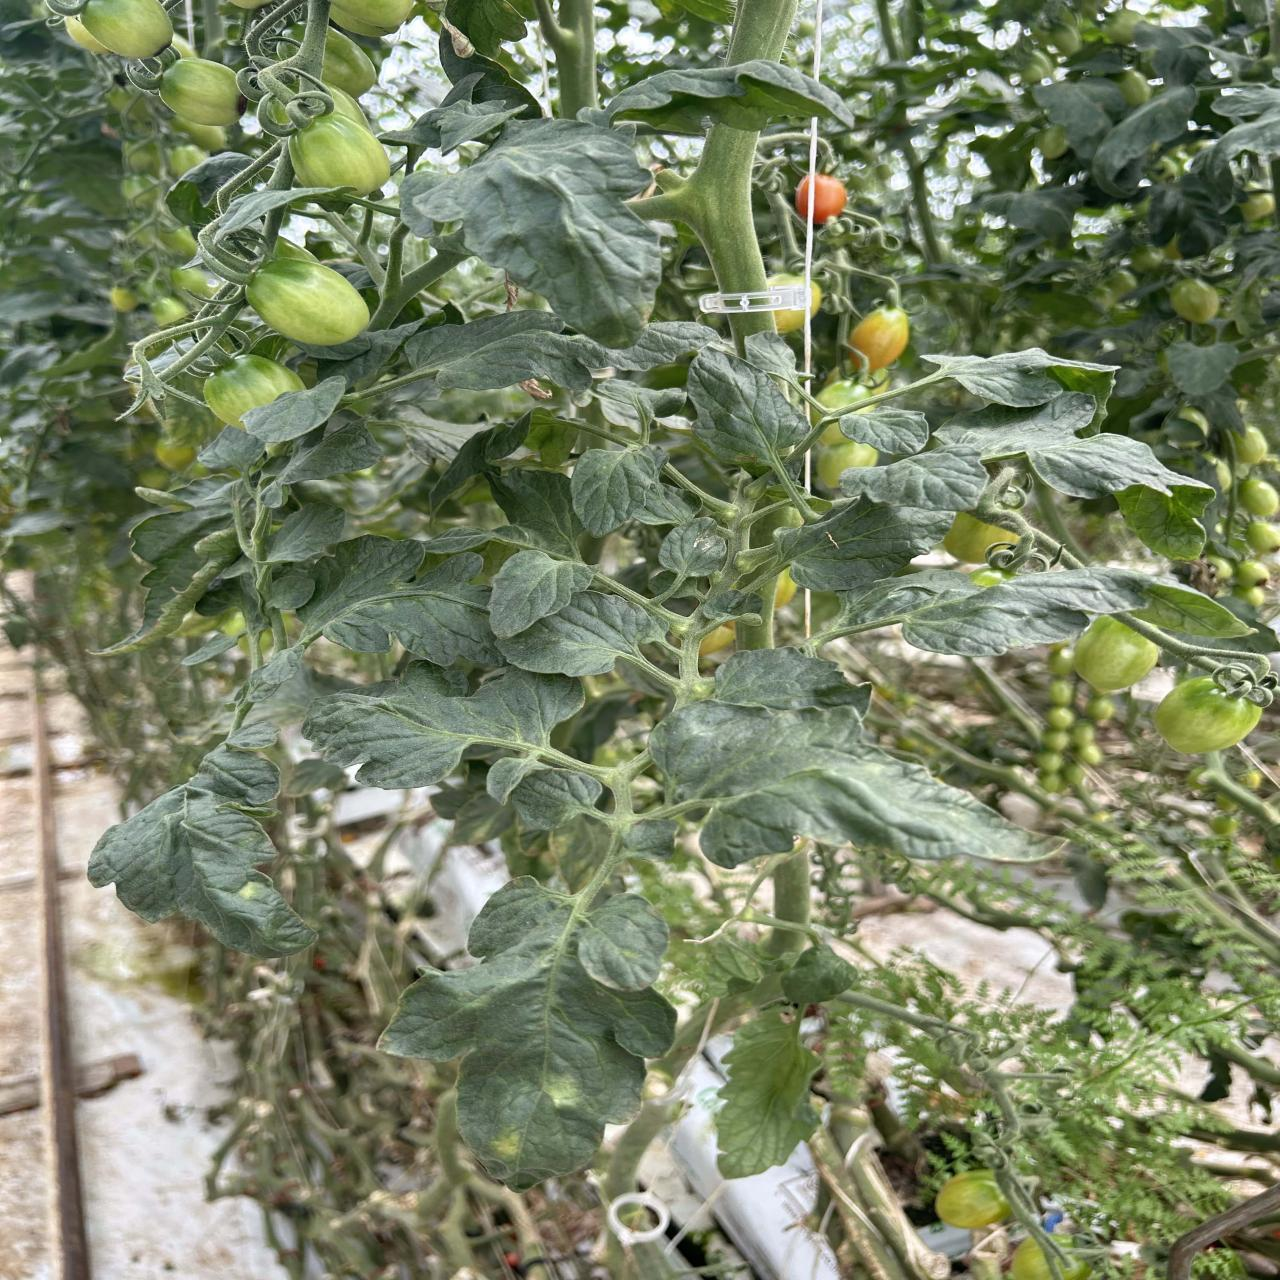Rugose leaf: (381, 881, 675, 1187), (651, 701, 1047, 867), (404, 120, 661, 345), (88, 747, 315, 956), (304, 663, 584, 788), (933, 390, 1208, 498), (301, 536, 502, 666), (400, 311, 710, 392), (903, 567, 1148, 656), (101, 509, 239, 653), (580, 60, 849, 132), (713, 1008, 821, 1178), (775, 498, 954, 591), (496, 591, 665, 676), (910, 348, 1118, 417), (687, 347, 809, 464), (438, 18, 539, 118), (840, 445, 989, 512), (822, 571, 979, 633), (488, 550, 594, 638), (578, 893, 668, 990), (571, 445, 667, 536), (489, 470, 584, 558), (301, 321, 422, 387), (241, 375, 346, 444), (279, 417, 381, 484), (595, 379, 687, 442), (510, 769, 604, 830), (267, 504, 346, 563), (782, 945, 858, 1005), (839, 407, 930, 457), (659, 516, 727, 577), (136, 478, 236, 518), (246, 644, 302, 702), (198, 425, 265, 470), (745, 331, 801, 383), (486, 757, 546, 804), (624, 818, 679, 859), (225, 719, 279, 750)
Rugose tomato: (245, 237, 369, 345), (290, 95, 389, 195), (1155, 676, 1261, 754), (204, 354, 305, 425), (1073, 615, 1159, 692), (159, 57, 243, 127), (81, 0, 172, 59), (935, 1170, 1010, 1230), (850, 307, 910, 372), (321, 28, 376, 97), (331, 0, 415, 36), (326, 82, 369, 131), (64, 16, 110, 54)
